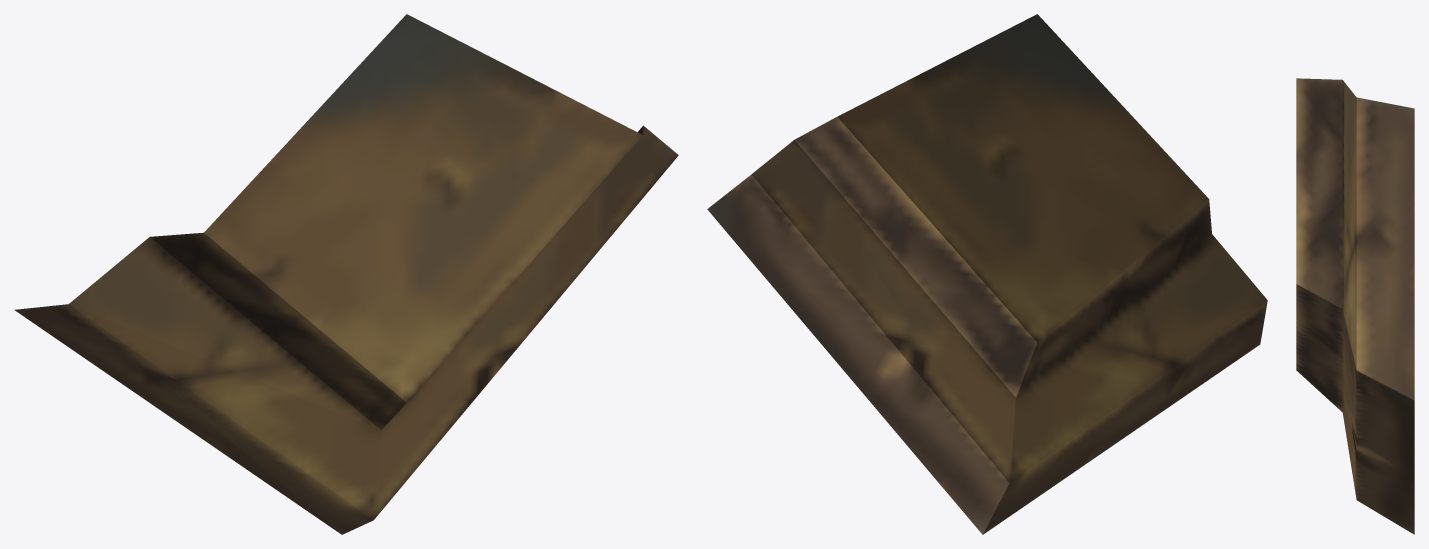
The model's file is yw_shanlin_doormetal_21.FBX.
3 views of the same model, side by side, from view 1: azimuth 30°, elevation 25°; view 2: azimuth 150°, elevation 25°; view 3: azimuth 270°, elevation 25° (orthographic). The views are drawn at different scales.
Visible parts, largest first — view 1: yw_shanlin_doormetal_21; view 2: yw_shanlin_doormetal_21; view 3: yw_shanlin_doormetal_21.
Boxes of the visible parts, x1,y1,x2,y2 form: yw_shanlin_doormetal_21: [15, 14, 678, 534]; yw_shanlin_doormetal_21: [707, 14, 1267, 534]; yw_shanlin_doormetal_21: [1296, 78, 1414, 534].
Size of the model in its own units: 46.55 by 38.68 by 7.98.
